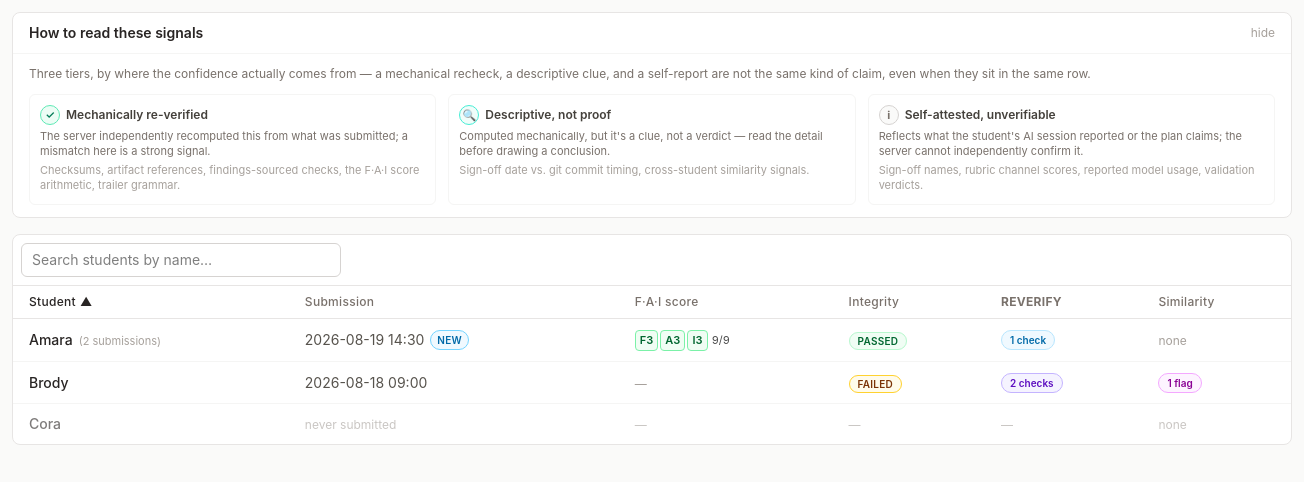
Test: Roster table › shows a similarity flag count and expands to the paired student on click
Click the heading "1 flag" at (1180, 383), box [1158,373,1202,394]
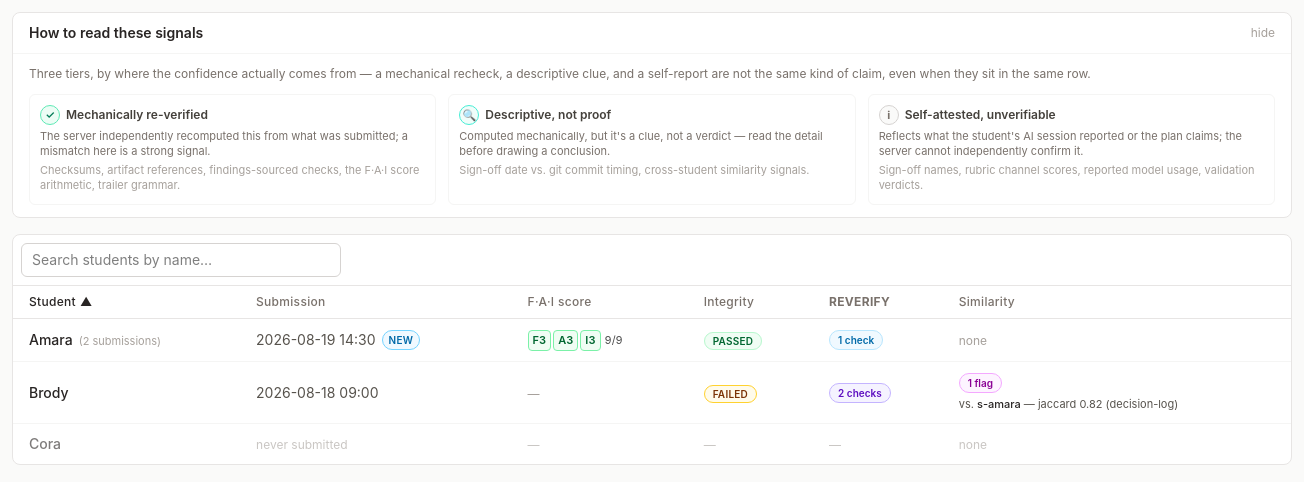
Now the text "s-amara" is shown, box [977,398,1021,412]
Now the list item "vs. s-amara — jaccard 0.82 (decision-log)" is shown, box [959,398,1178,412]
